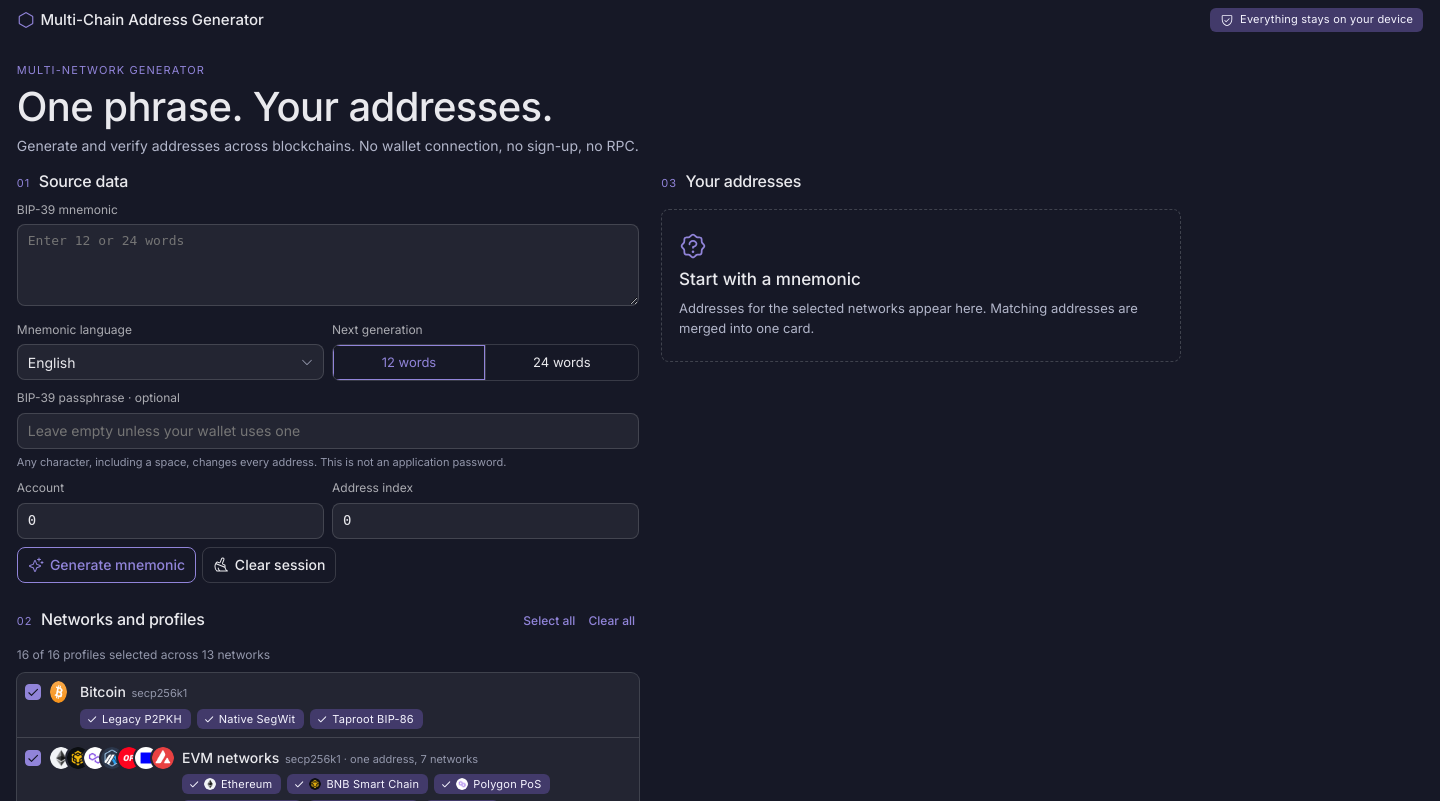
Test case: App › flow B: Generate mnemonic fills the textarea in the chosen length and derives
Click the radio button labelled "24 words" at (561, 362), box top-left (485, 345), bottom-right (638, 380)
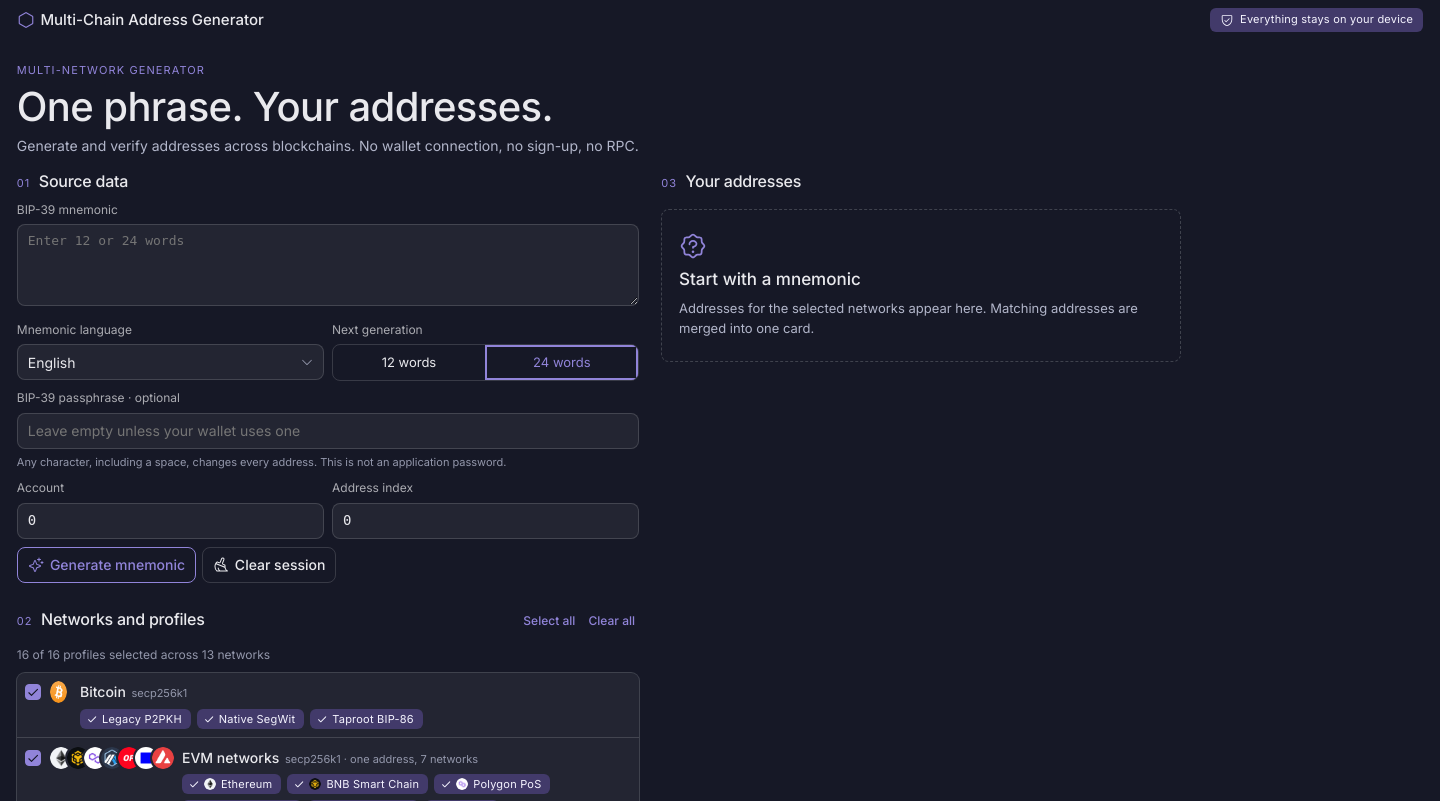
Click the button "Generate mnemonic" at (106, 565), box top-left (17, 547), bottom-right (196, 583)
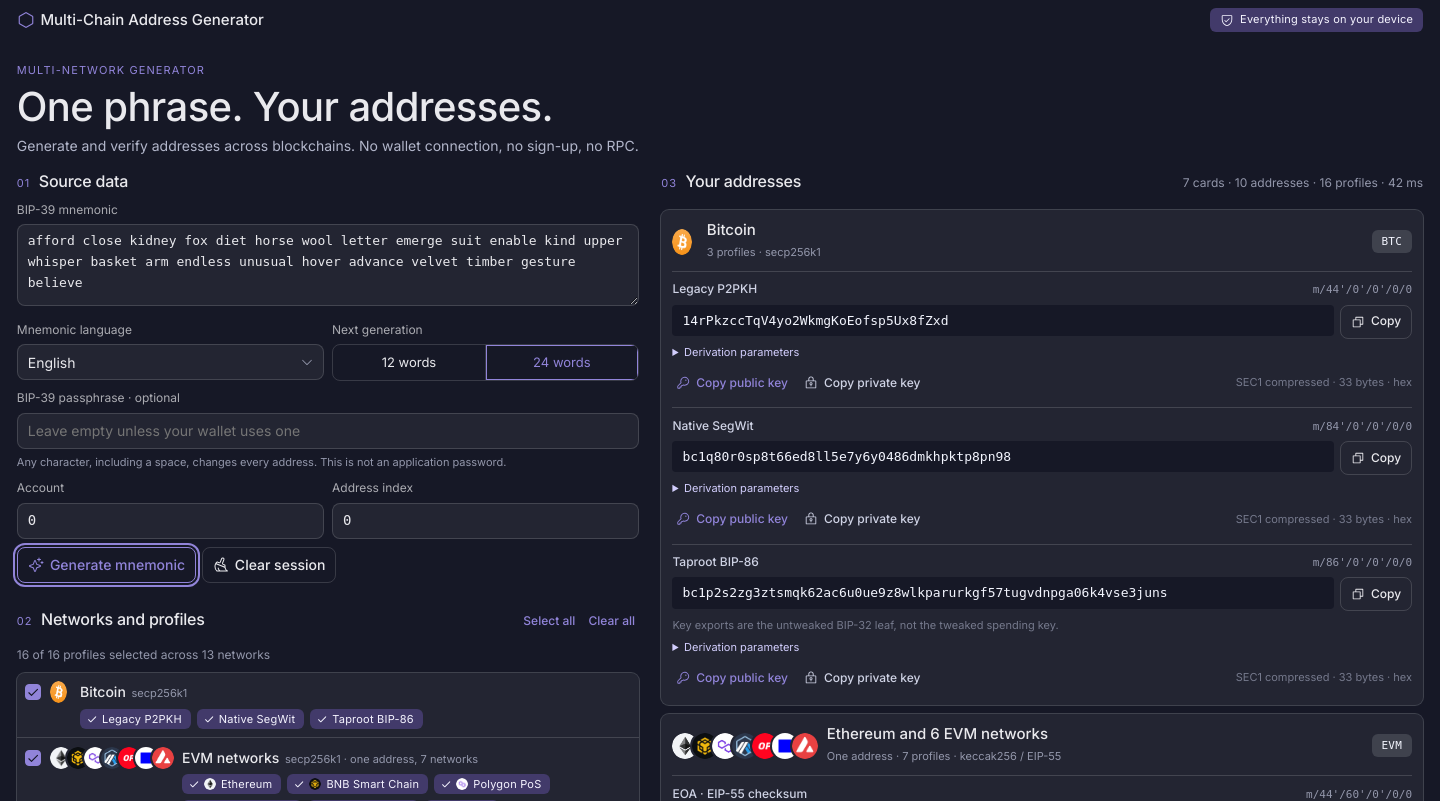
Expected: the text "Start with a mnemonic" is gone
